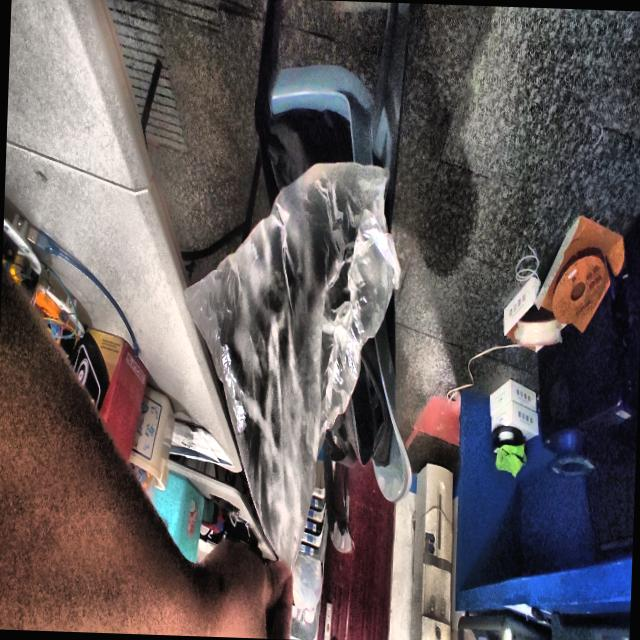plastic bag: (185, 161, 400, 567)
